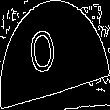O_S: (40, 26, 70, 84)
